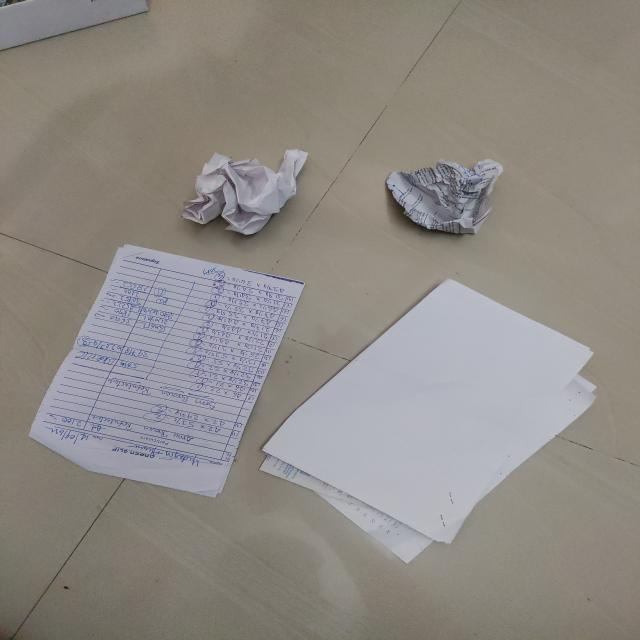paper: (289, 306, 605, 556), (43, 242, 289, 509), (372, 154, 546, 264), (178, 145, 334, 249)
